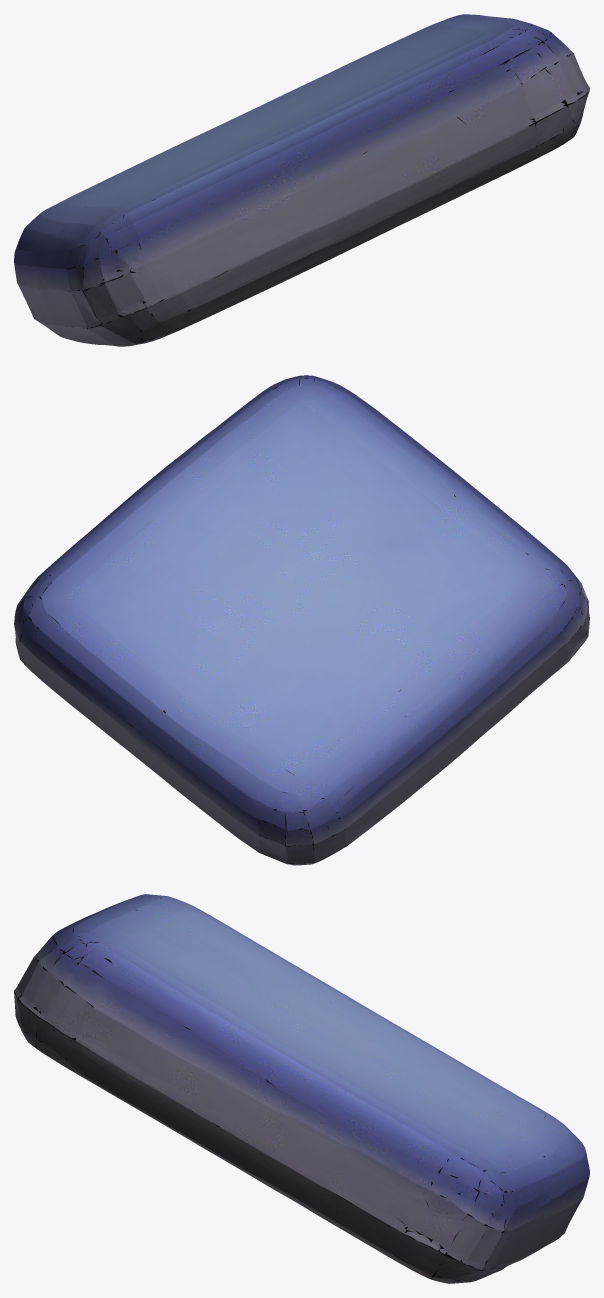
Rendered from blue_tablet_on_table_000.glb.
3 views of the same model, one above another, from view 1: azimuth 30°, elevation 25°; view 2: azimuth 150°, elevation 25°; view 3: azimuth 270°, elevation 25° (orthographic). The views are drawn at different scales.
Visible parts, largest first — view 1: blue_tablet_on_table_000.obj; view 2: blue_tablet_on_table_000.obj; view 3: blue_tablet_on_table_000.obj.
Boxes of the visible parts, x1,y1,x2,y2 form: blue_tablet_on_table_000.obj: (14, 14, 589, 346); blue_tablet_on_table_000.obj: (14, 375, 589, 865); blue_tablet_on_table_000.obj: (14, 894, 589, 1283).
Bounding box in the file's own units: 0.0953 × 0.0635 × 0.0823.
1 material, 1 textured.
